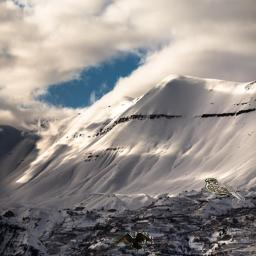Crow: (114, 232, 154, 253)
Sparrow: (205, 178, 245, 201)
